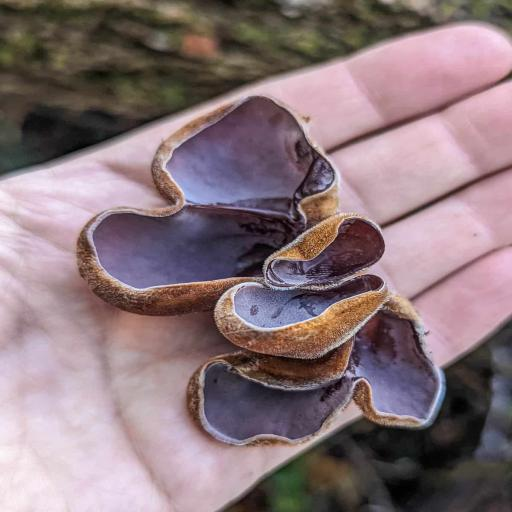Wood Ear Mushroom: (75, 95, 477, 471)
